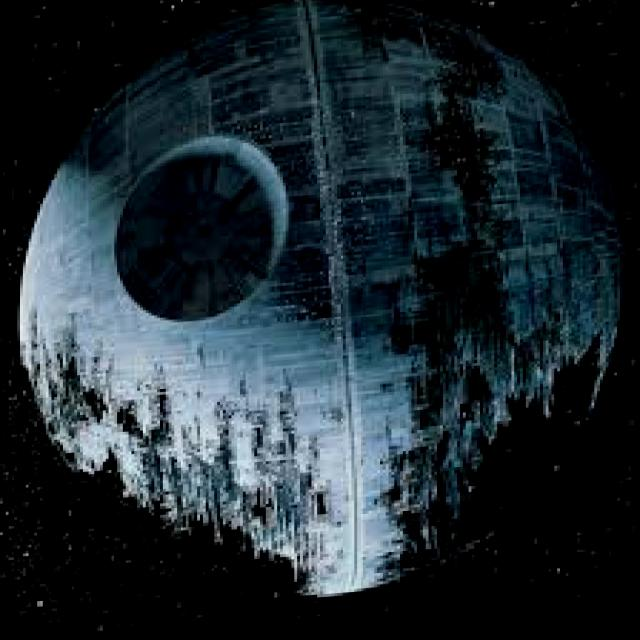deathStar: (21, 0, 628, 619)
